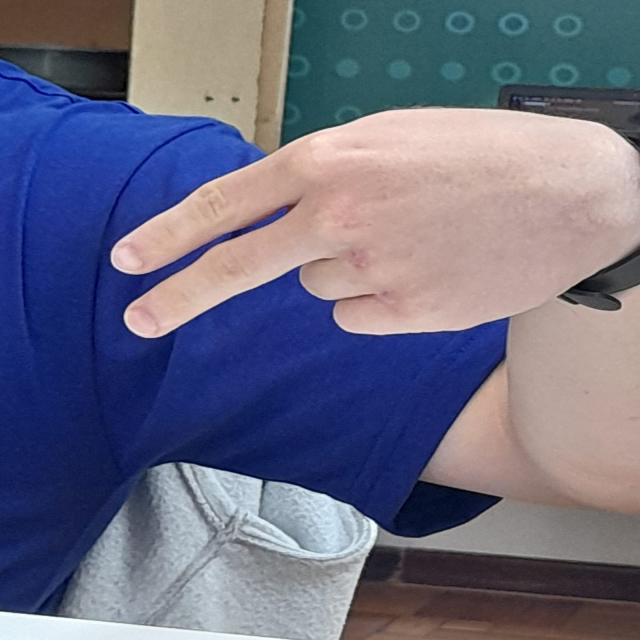N: (101, 100, 640, 350)
